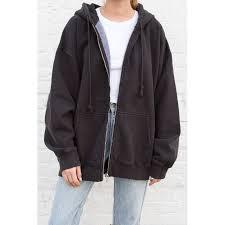jacket: (40, 0, 187, 188)
